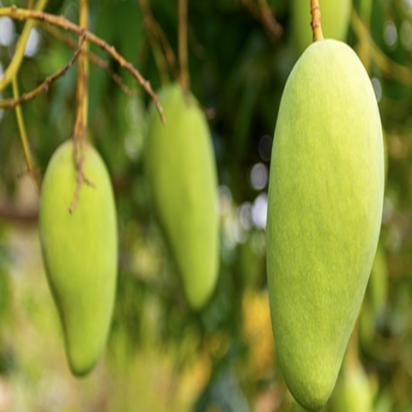mango: (247, 28, 405, 411), (133, 76, 230, 326), (29, 131, 121, 383)
